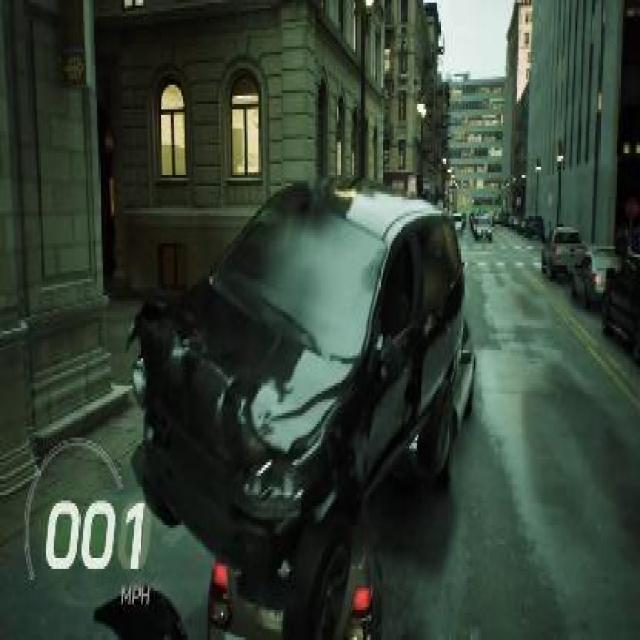accident: (126, 161, 482, 640)
